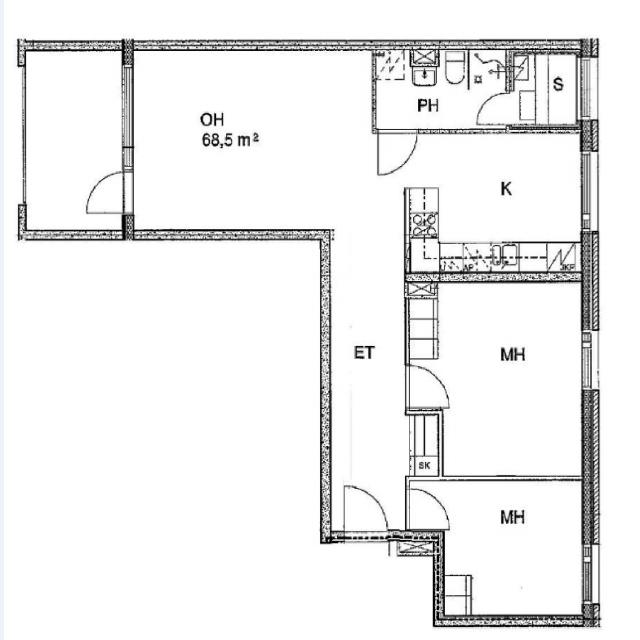door: (344, 484, 388, 542), (344, 531, 388, 588), (84, 171, 134, 213), (378, 128, 418, 176), (405, 366, 449, 408), (405, 489, 447, 528), (477, 93, 514, 124)
